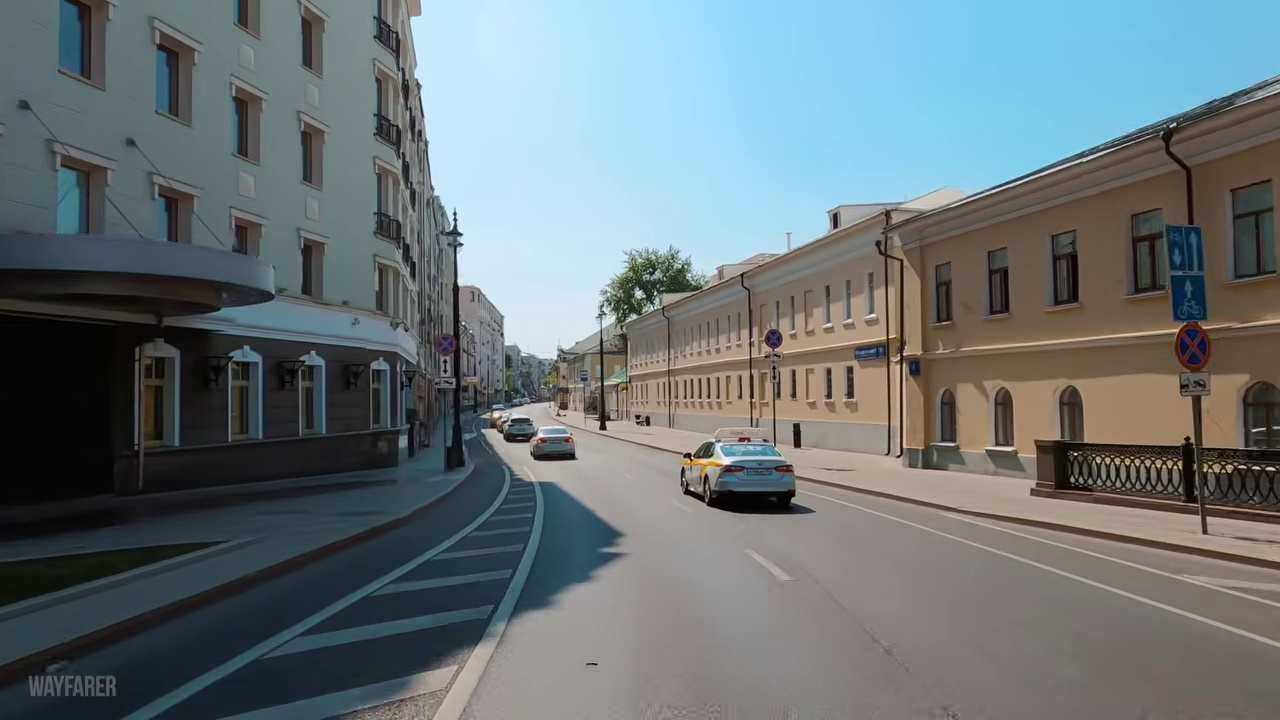apagada: (443, 226, 468, 252)
